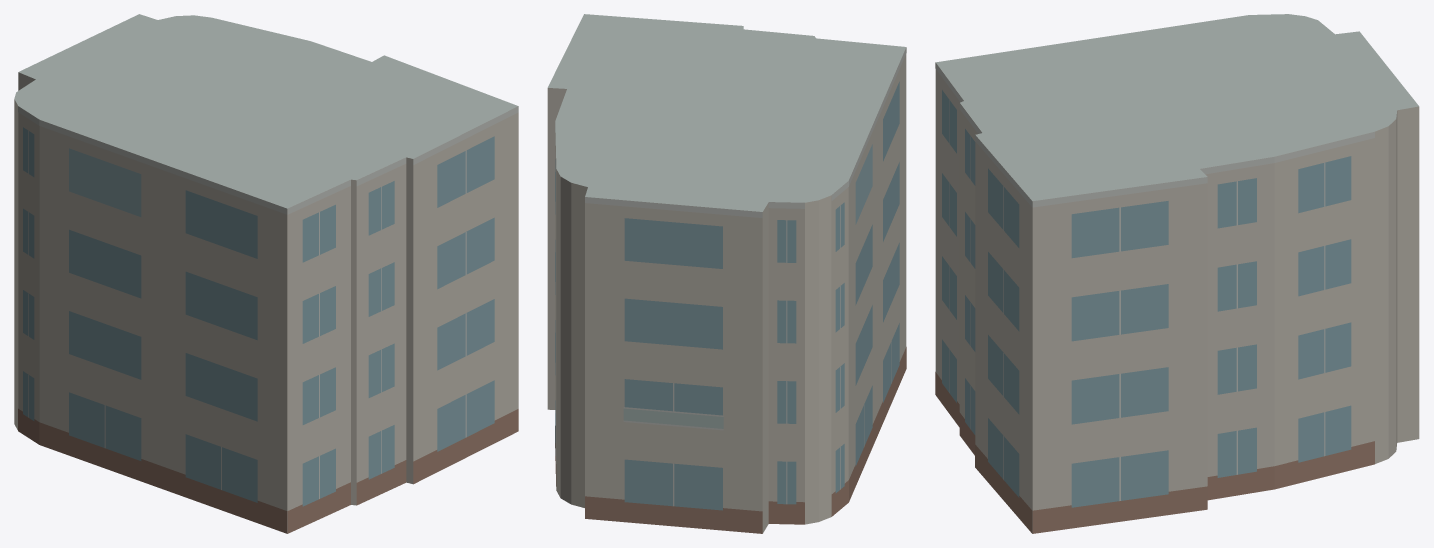
Rendered from survey-upis-32509043.glb.
The picture shows the model from 3 angles, left to right: view 1: azimuth 30°, elevation 25°; view 2: azimuth 150°, elevation 25°; view 3: azimuth 270°, elevation 25°; orthographic projection. The views are drawn at different scales.
Parts seen in each view (by area): view 1: survey-upis-32509043.tmp; view 2: survey-upis-32509043.tmp; view 3: survey-upis-32509043.tmp.
Part boxes in pixels (<box>): survey-upis-32509043.tmp: <box>14,14,518,533</box>; survey-upis-32509043.tmp: <box>547,14,906,533</box>; survey-upis-32509043.tmp: <box>935,14,1419,533</box>.
Size of the model in its own units: 15.46 by 12.8 by 16.88.
